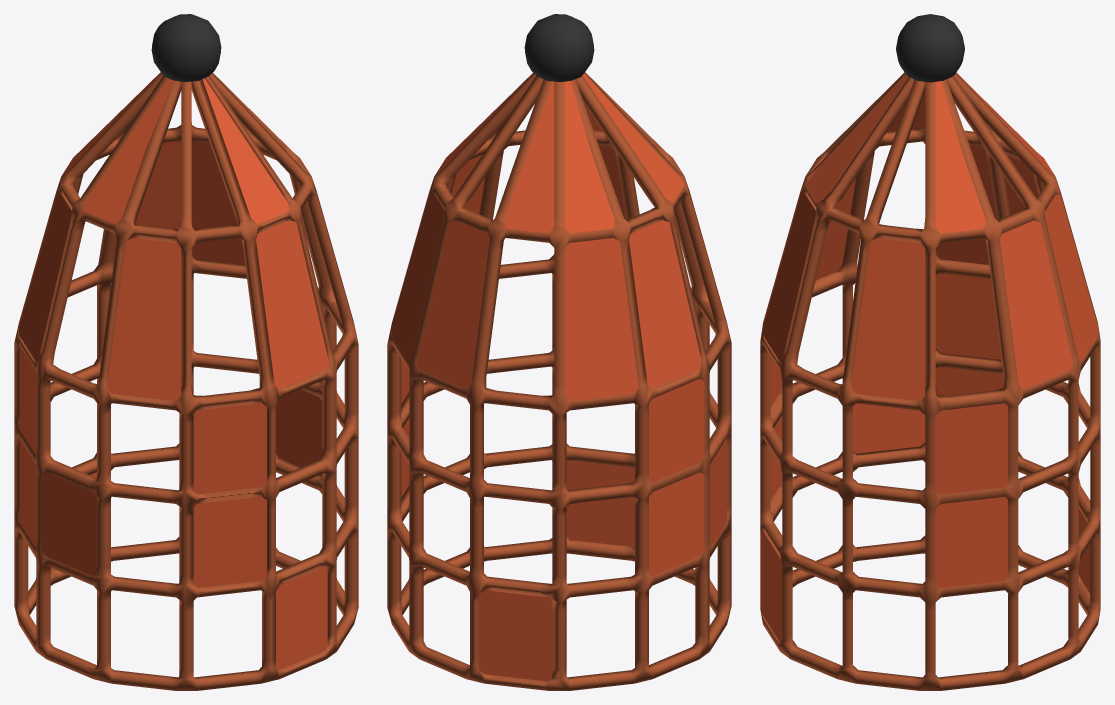
The model's file is rocket_half.fbx.
3 views of the same model, side by side, from view 1: azimuth 30°, elevation 25°; view 2: azimuth 150°, elevation 25°; view 3: azimuth 270°, elevation 25° (orthographic).
Visible parts, largest first — view 1: Rocket, Tip; view 2: Rocket, Tip; view 3: Rocket, Tip.
Part boxes in pixels (x1,y1,x2,y2): Rocket: (14, 72, 358, 690); Tip: (151, 14, 221, 82); Rocket: (387, 72, 731, 690); Tip: (524, 14, 594, 82); Rocket: (760, 72, 1100, 690); Tip: (896, 14, 964, 82).
Bounding box in the file's own units: 1650 × 3223 × 1650.
